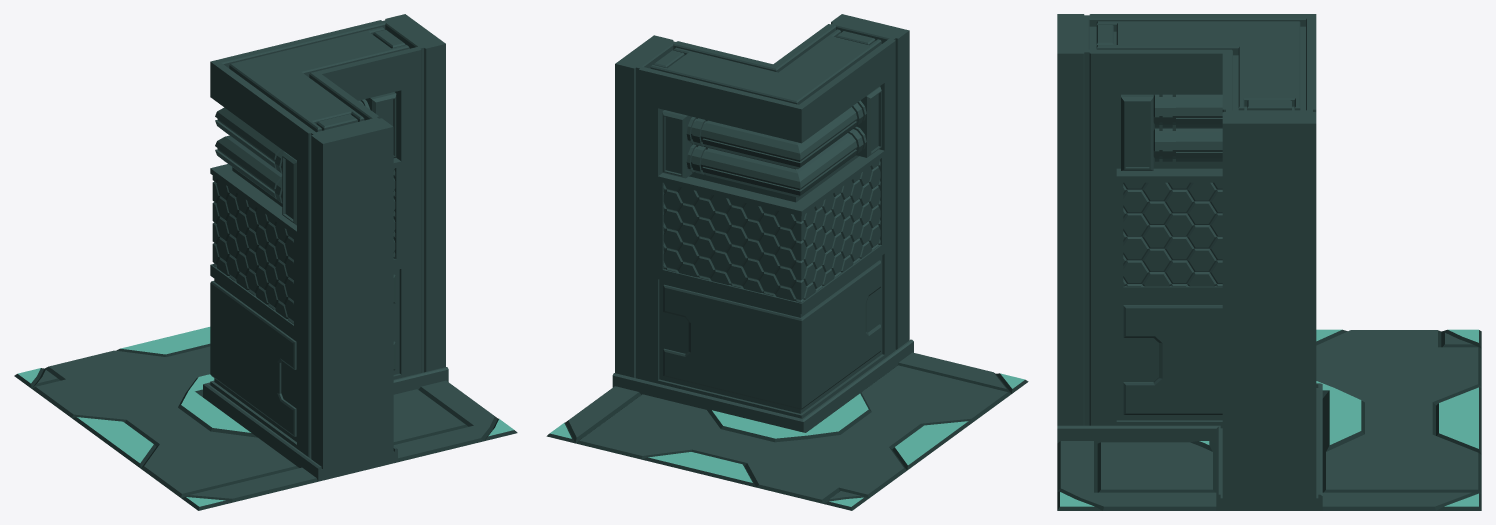
The model's file is Walls_Corner_Var01.fbx.
The picture shows the model from 3 angles, left to right: view 1: azimuth 30°, elevation 25°; view 2: azimuth 150°, elevation 25°; view 3: azimuth 270°, elevation 25°; orthographic projection. The views are drawn at different scales.
Parts seen in each view (by area): view 1: Walls_Corner_Var01; view 2: Walls_Corner_Var01; view 3: Walls_Corner_Var01.
Part boxes in pixels (x1,y1,x2,y2): Walls_Corner_Var01: (14,14,517,510); Walls_Corner_Var01: (546,14,1028,510); Walls_Corner_Var01: (1057,14,1481,510).
Bounding box in the file's own units: 600 × 604 × 600.
